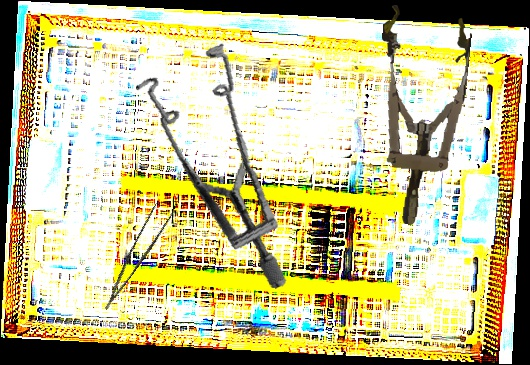Speculum: (108, 30, 322, 291), (362, 3, 475, 230)
Tissue Forceps: (88, 197, 179, 311)
